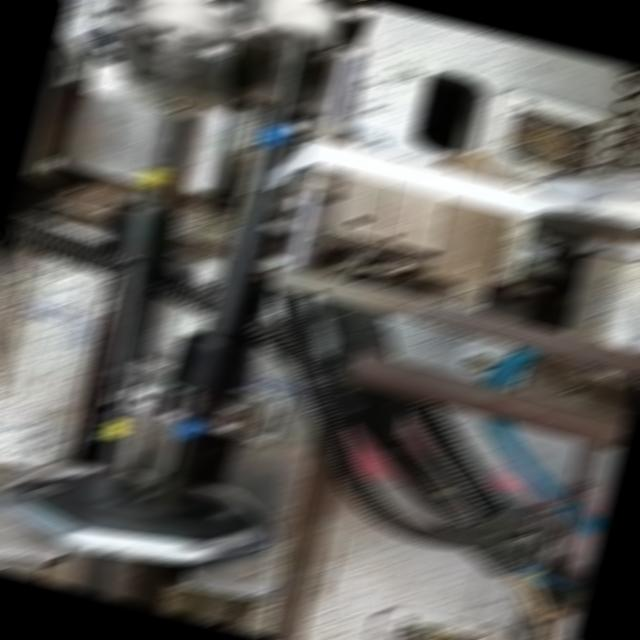blue: (257, 124, 288, 145), (173, 416, 204, 437)
yellow: (134, 168, 169, 188), (100, 420, 128, 438)
